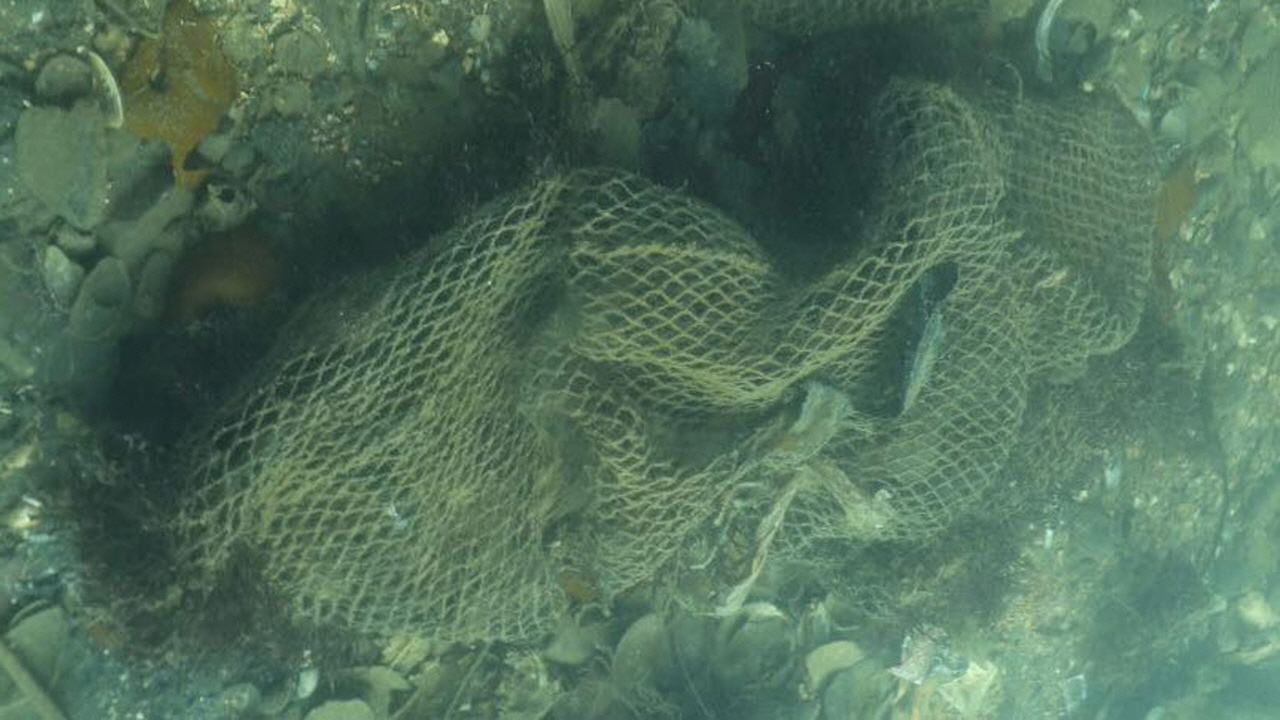fish net: (166, 78, 1160, 644)
